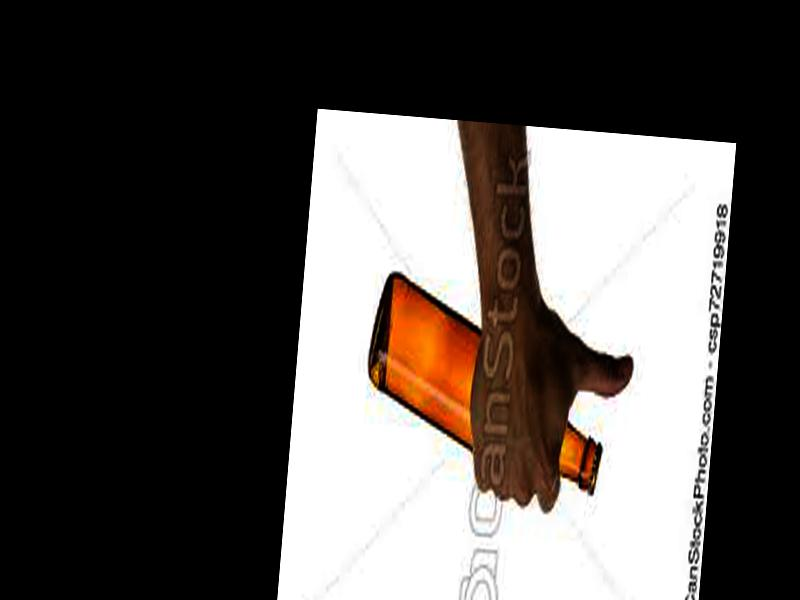Beer: (360, 270, 613, 492)
